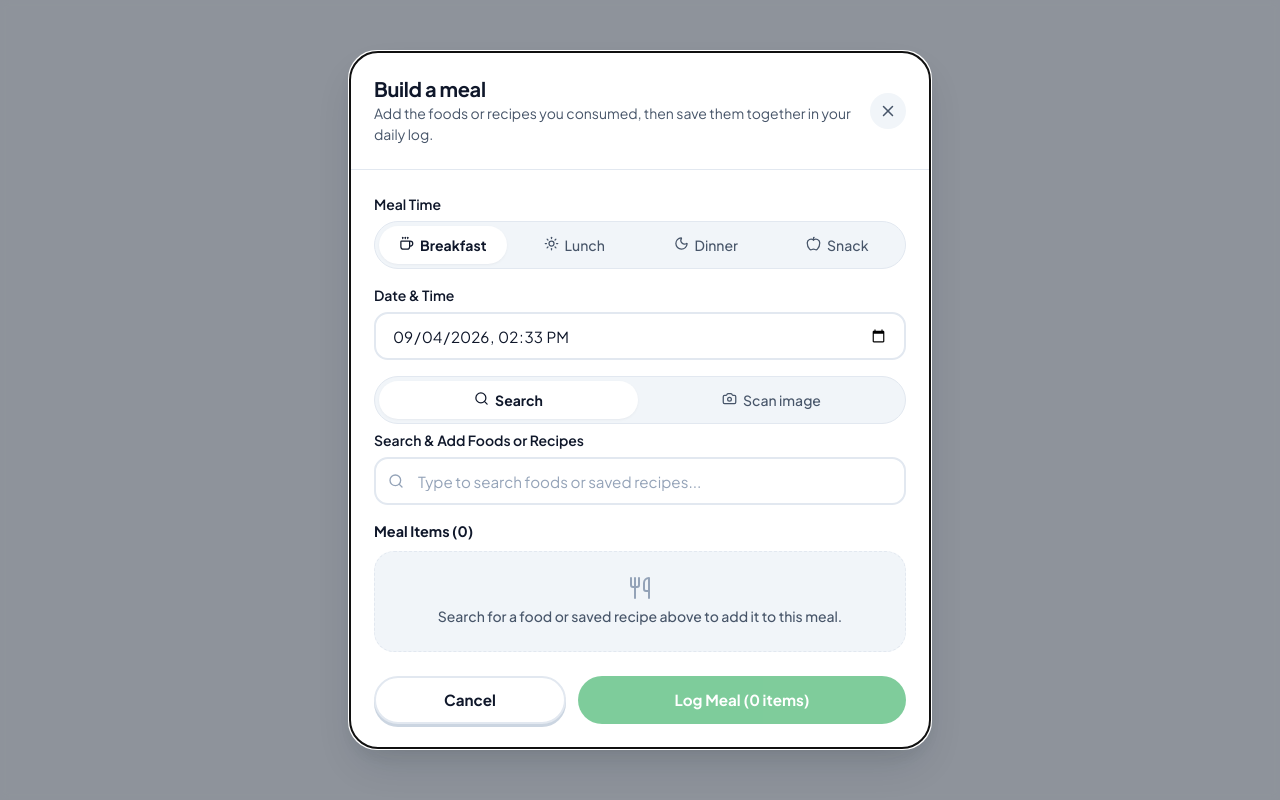
Test: MealLogModal recipe logging › shows the deterministic recipe compatibility result before logging it
The width and height of the screenshot is (1280, 800).
Type "chicken adobo" into the field with placeholder "Type to search foods or saved recipes...".
click(640, 481); type("chicken adobo")  # box [374,457,906,505]
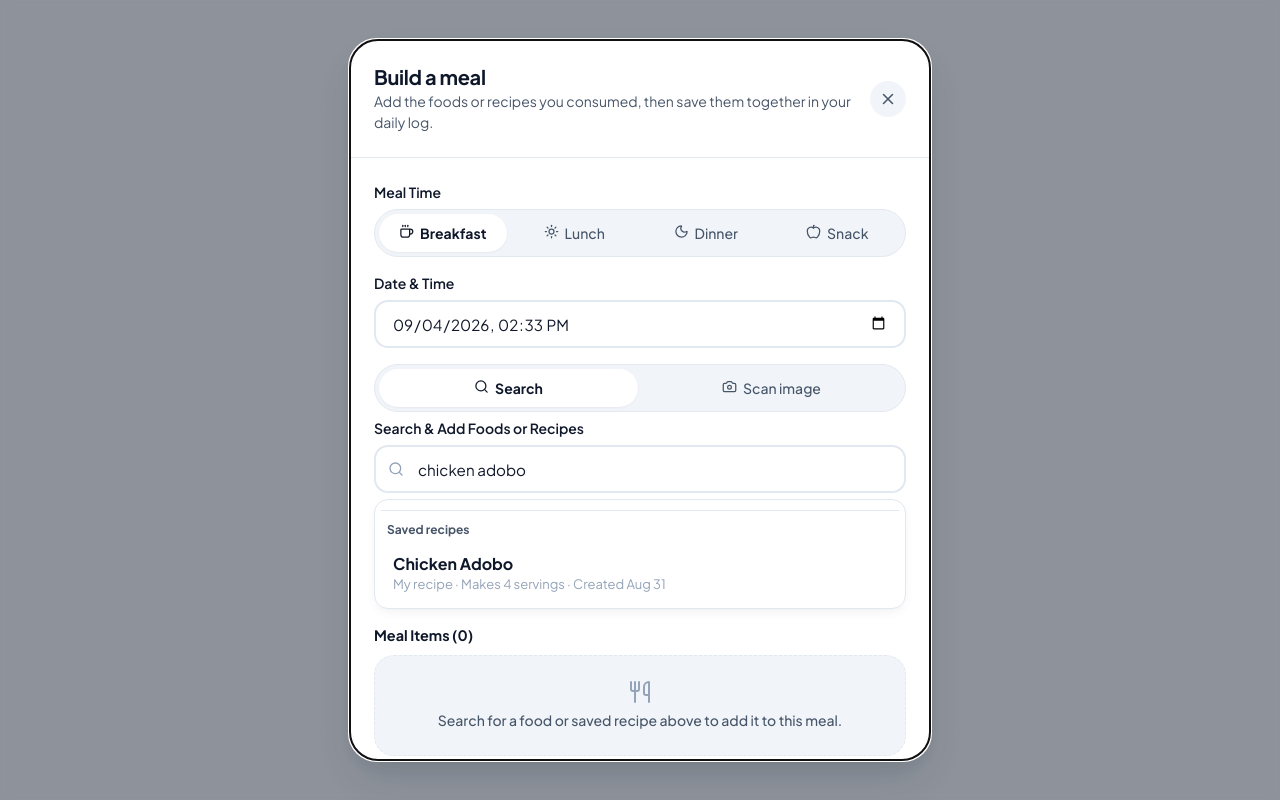
Click the button "Chicken Adobo My recipe · Makes 4 servings · Created Aug 31".
click(453, 564)  # box [381,543,899,602]
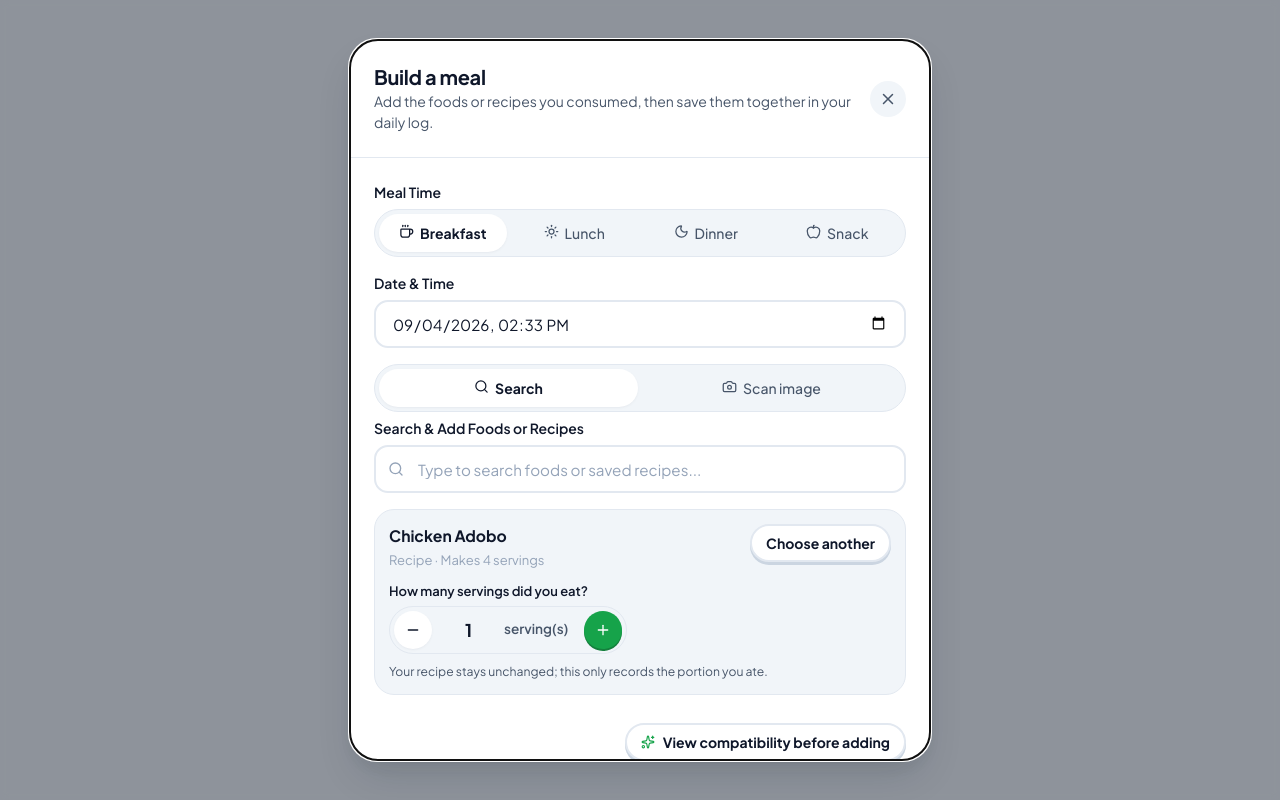
Click the button "View compatibility before adding".
click(765, 742)  # box [625,723,906,761]
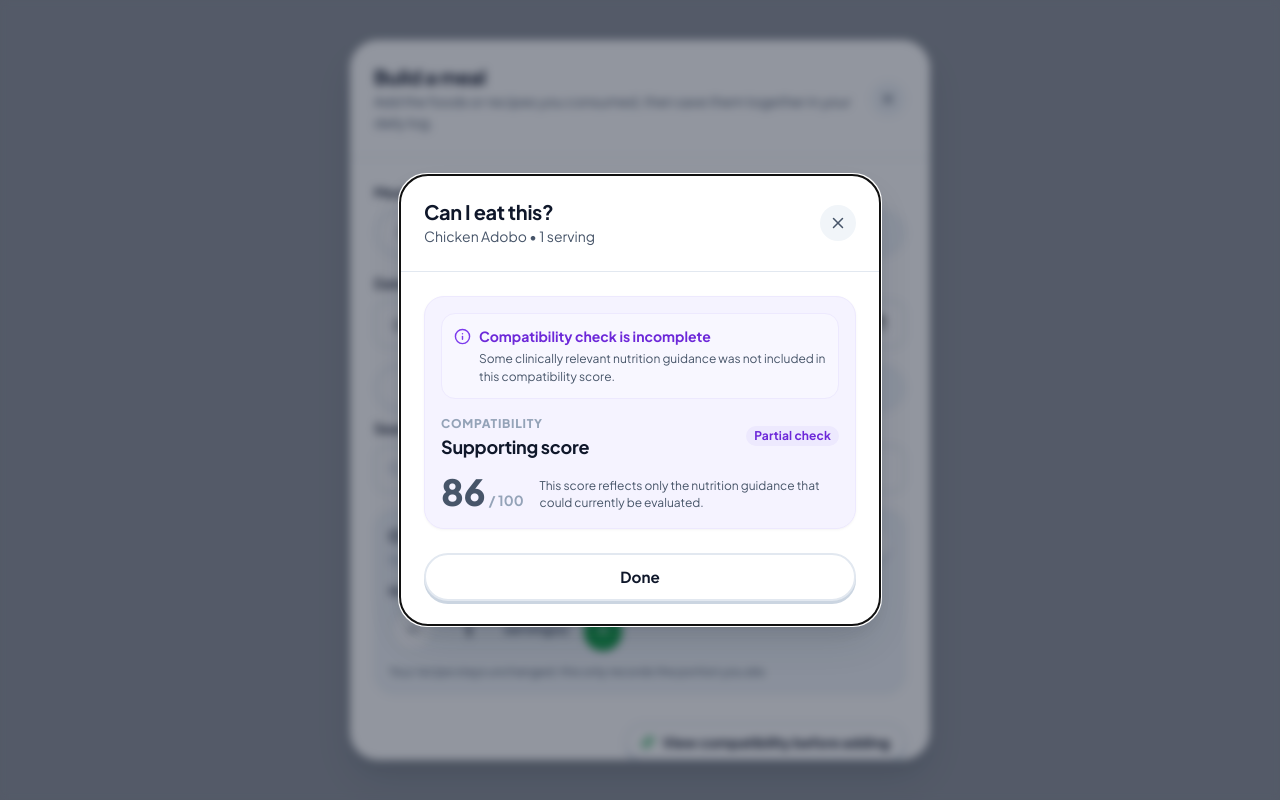
Check: the heading "Can I eat this?" is shown, box [424,199,554,224]
Check: the text "Compatibility check is incomplete" is shown, box [479,327,711,345]
Check: the heading "Supporting score" is shown, box [441,436,589,458]
